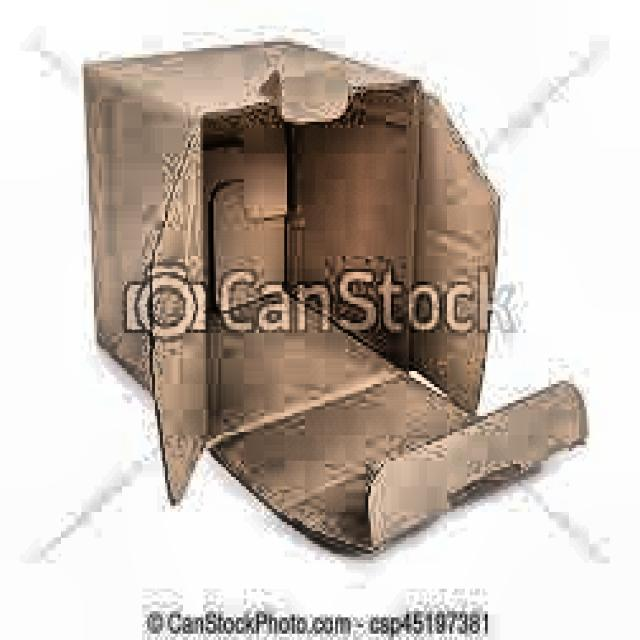Cardbox: (62, 19, 600, 572)
